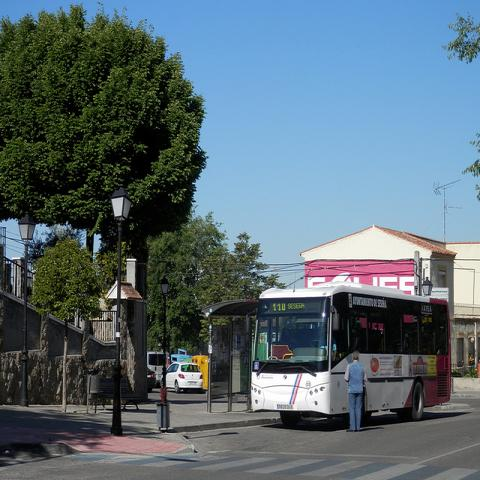bus: (251, 286, 451, 427)
car: (160, 362, 203, 394), (147, 351, 170, 382), (146, 366, 156, 392)
